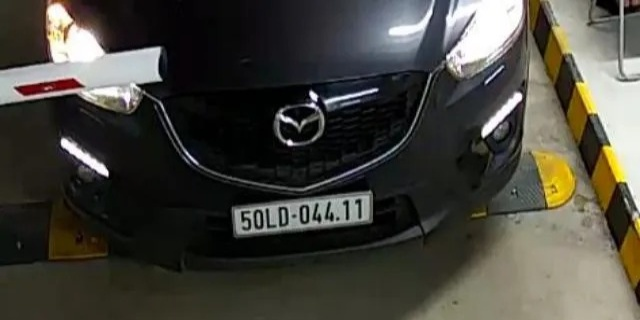bien_so: (235, 197, 369, 233)
